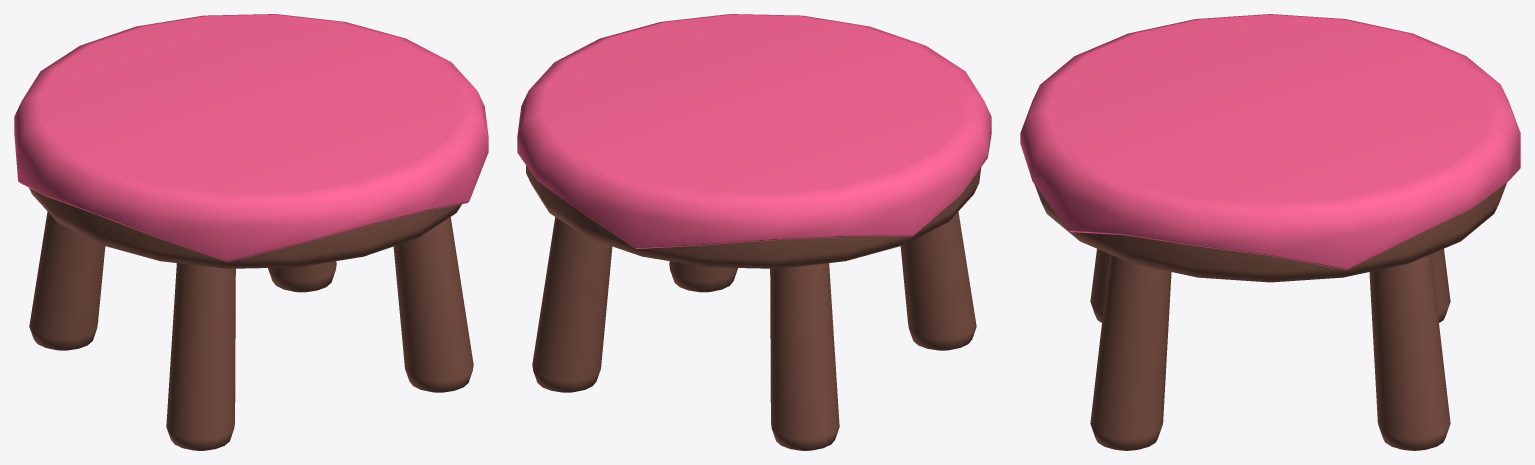
Rendered from Store_4_Table_1.glb.
3 views of the same model, side by side, from view 1: azimuth 30°, elevation 25°; view 2: azimuth 150°, elevation 25°; view 3: azimuth 270°, elevation 25° (orthographic). The views are drawn at different scales.
Visible parts, largest first — view 1: Store_4_Table_1; view 2: Store_4_Table_1; view 3: Store_4_Table_1.
Part boxes in pixels (x1,y1,x2,y2): Store_4_Table_1: (14, 14, 488, 450); Store_4_Table_1: (517, 14, 991, 450); Store_4_Table_1: (1020, 14, 1520, 450).
Bounding box in the file's own units: 1.3 × 0.7783 × 1.3.
Materials: 1 (1 with a texture image).
